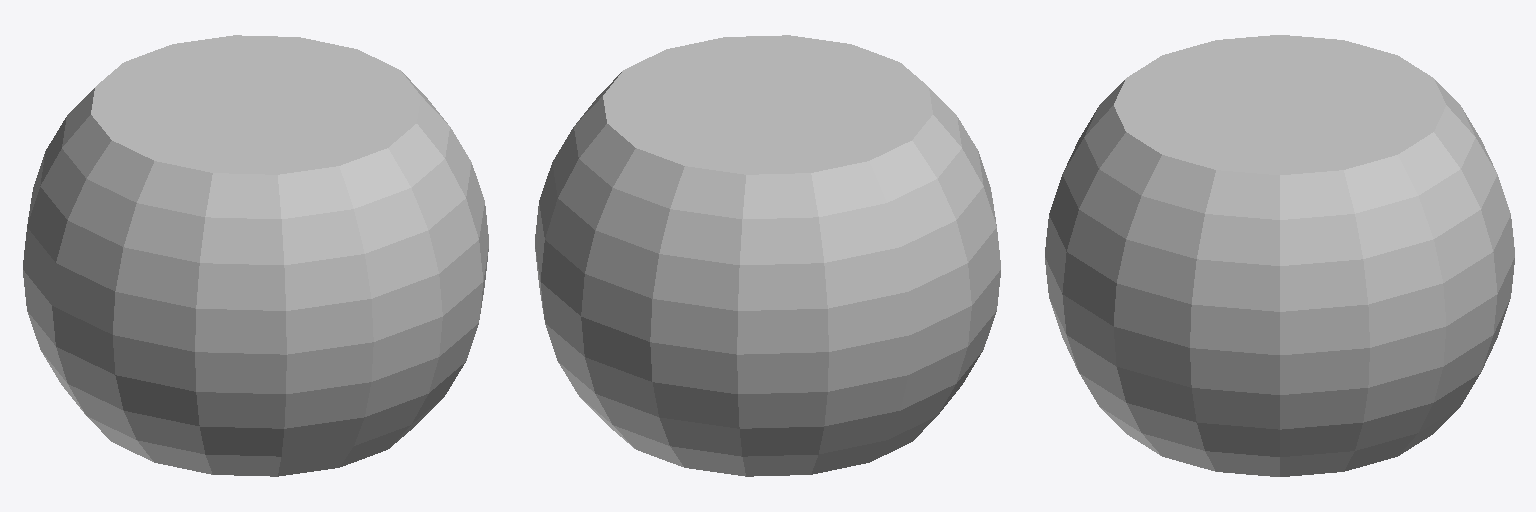
Rendered from drum_cym.obj.
3 renders of one model, left to right at view 1: azimuth 30°, elevation 25°; view 2: azimuth 150°, elevation 25°; view 3: azimuth 270°, elevation 25°, orthographic.
Bounding box in the file's own units: 2 × 1.41 × 2.